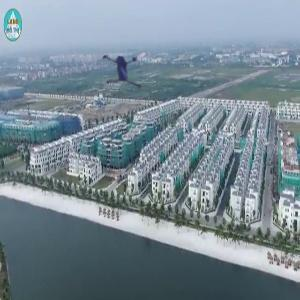drone: (95, 34, 165, 104)
